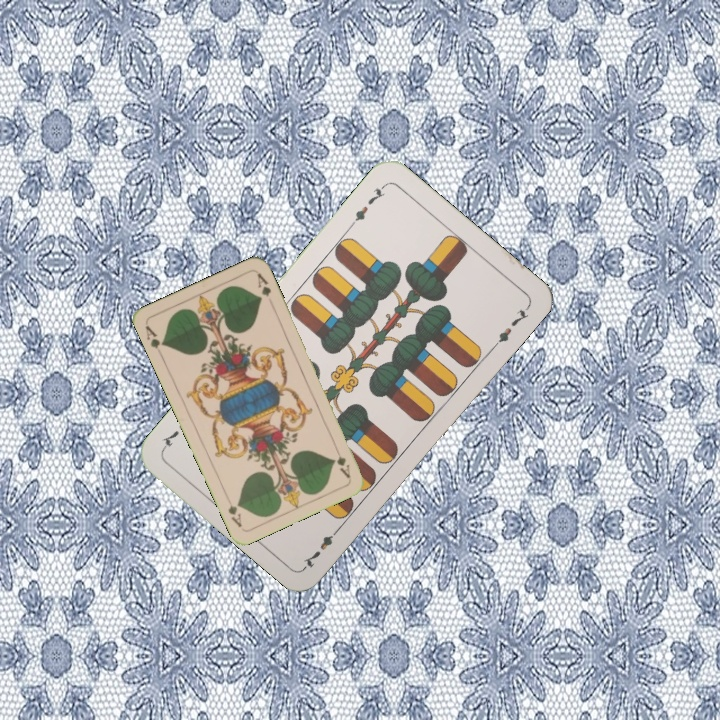E7: (299, 522, 344, 570), (346, 180, 388, 230)
GA: (330, 442, 353, 481), (141, 321, 168, 351)
